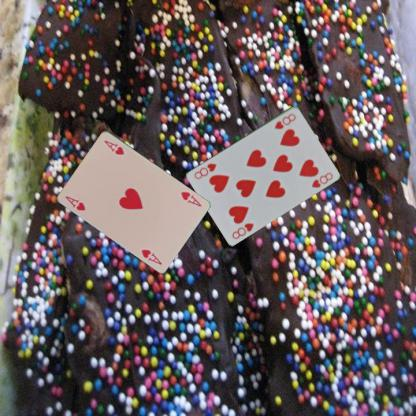8h: (229, 220, 255, 240), (272, 110, 297, 130)
Ah: (62, 193, 87, 212), (178, 189, 203, 208)
